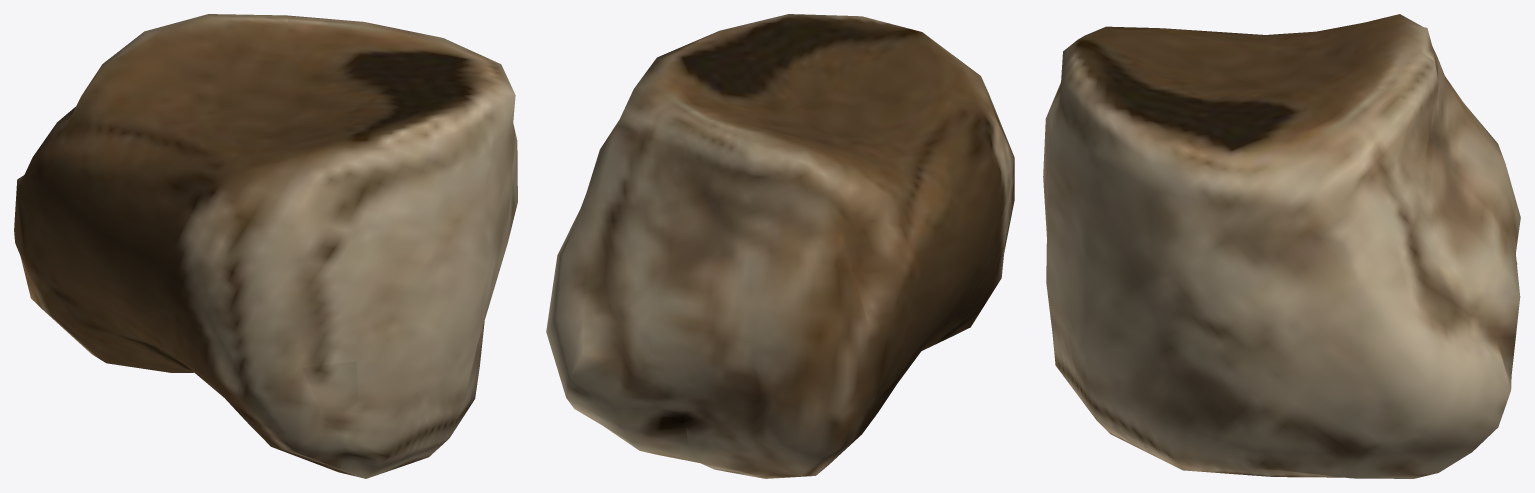
The model's file is Radial_Carpal.glb.
The picture shows the model from 3 angles, left to right: view 1: azimuth 30°, elevation 25°; view 2: azimuth 150°, elevation 25°; view 3: azimuth 270°, elevation 25°; orthographic projection. The views are drawn at different scales.
Parts seen in each view (by area): view 1: R_Frt_Radial_Carpal; view 2: R_Frt_Radial_Carpal; view 3: R_Frt_Radial_Carpal.
Part boxes in pixels (x1,y1,x2,y2): R_Frt_Radial_Carpal: (14,14,517,478); R_Frt_Radial_Carpal: (546,14,1014,478); R_Frt_Radial_Carpal: (1043,14,1520,478).
Bounding box in the file's own units: 0.0415 × 0.0362 × 0.0424.
1 material, 1 textured.
